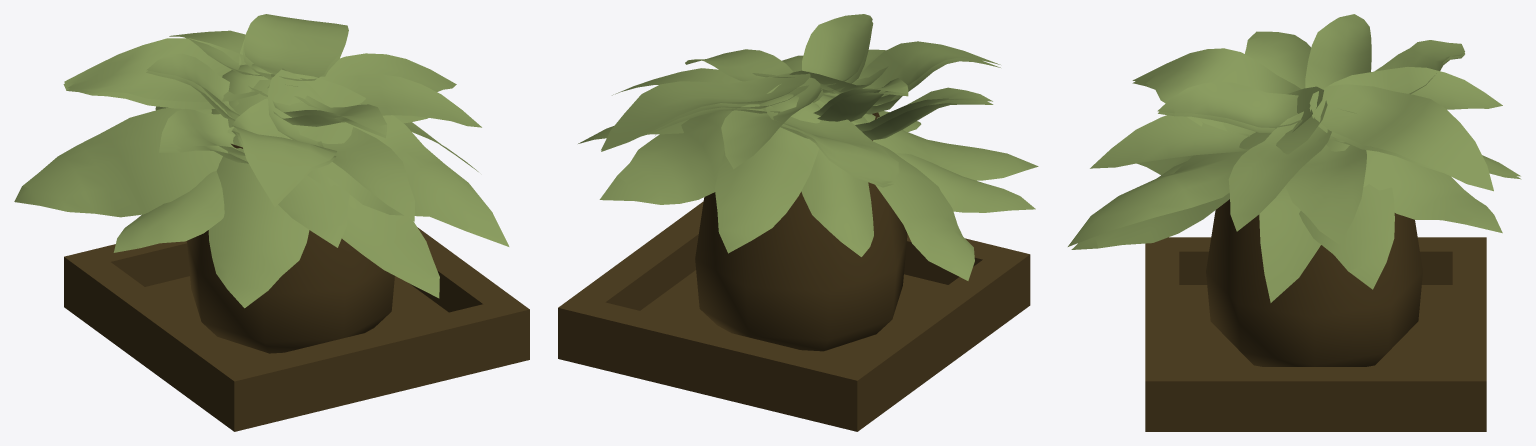
The model's file is Palm_Small_Straight.fbx.
3 renders of one model, left to right at view 1: azimuth 30°, elevation 25°; view 2: azimuth 150°, elevation 25°; view 3: azimuth 270°, elevation 25°, orthographic.
Visible parts, largest first — view 1: Palm_Small_Straight, Tub_Palm_Small; view 2: Palm_Small_Straight, Tub_Palm_Small; view 3: Palm_Small_Straight, Tub_Palm_Small.
Boxes of the visible parts, x1,y1,x2,y2 form: Palm_Small_Straight: (14,14,509,353); Tub_Palm_Small: (64,227,529,431); Palm_Small_Straight: (578,14,1038,351); Tub_Palm_Small: (558,201,1030,431); Palm_Small_Straight: (1068,14,1521,366); Tub_Palm_Small: (1145,237,1486,431).
Size of the model in its own units: 334 by 220 by 318.
